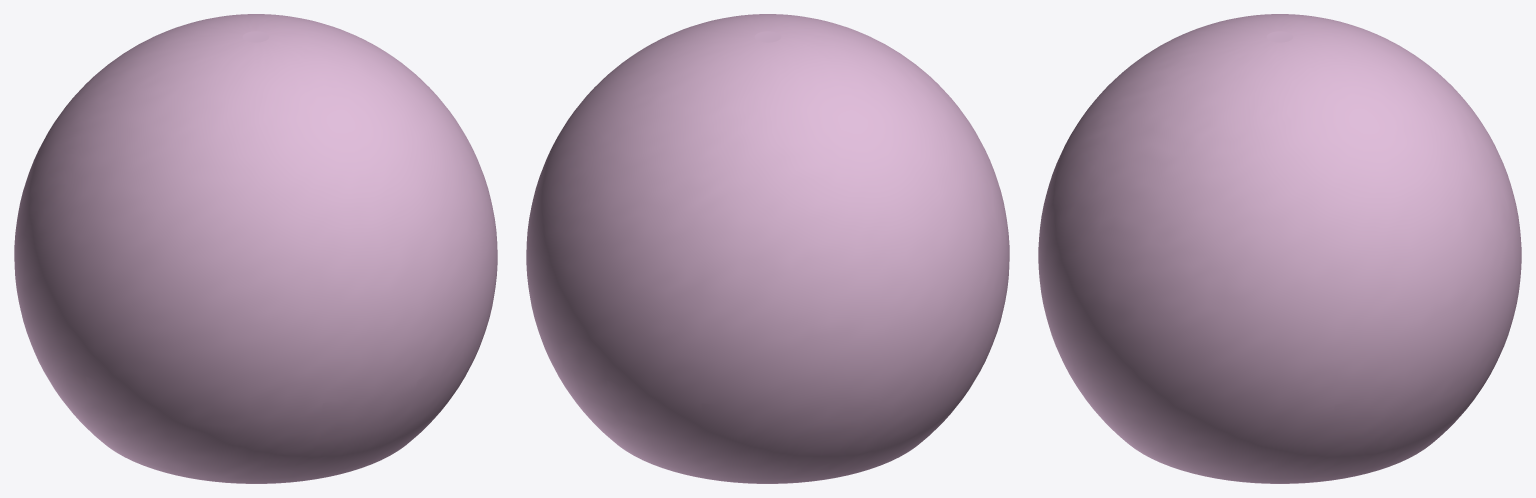
Rendered from head-ceramic.glb.
3 views of the same model, side by side, from view 1: azimuth 30°, elevation 25°; view 2: azimuth 150°, elevation 25°; view 3: azimuth 270°, elevation 25° (orthographic).
Visible parts, largest first — view 1: head_ceramic_32; view 2: head_ceramic_32; view 3: head_ceramic_32.
Part boxes in pixels (<box>): head_ceramic_32: <box>14,14,497,483</box>; head_ceramic_32: <box>526,14,1009,483</box>; head_ceramic_32: <box>1038,14,1521,483</box>.
Size of the model in its own units: 0.032 by 0.0276 by 0.032.
